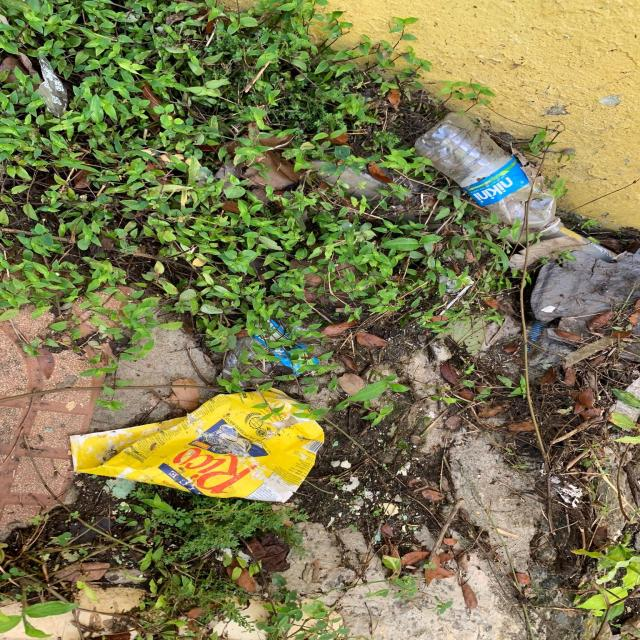litter: (60, 385, 322, 506), (405, 110, 560, 228)
